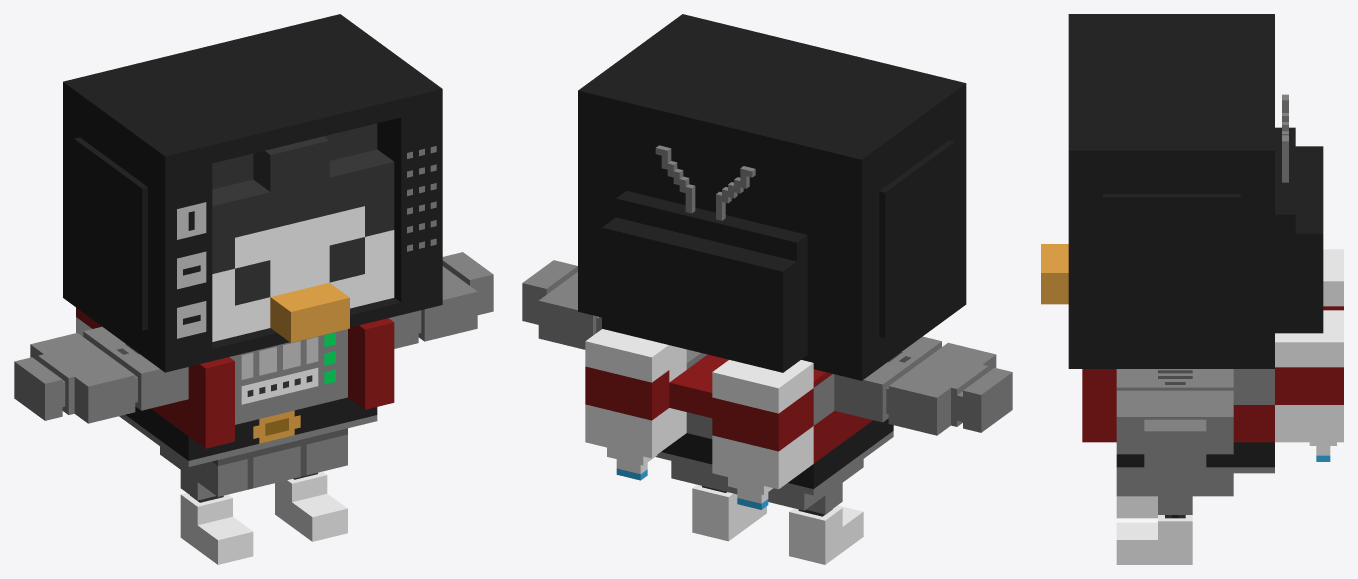
File: pinguiMagnet.fbx
3 renders of one model, left to right at view 1: azimuth 30°, elevation 25°; view 2: azimuth 150°, elevation 25°; view 3: azimuth 270°, elevation 25°, orthographic. The views are drawn at different scales.
Visible parts, largest first — view 1: pinguiMagnet:pinguiMagnet; view 2: pinguiMagnet:pinguiMagnet; view 3: pinguiMagnet:pinguiMagnet.
Boxes of the visible parts, <box> form: pinguiMagnet:pinguiMagnet: <box>14,14,493,564</box>; pinguiMagnet:pinguiMagnet: <box>522,14,1012,564</box>; pinguiMagnet:pinguiMagnet: <box>1041,14,1343,564</box>.
Size of the model in its own units: 76 by 72 by 44.
Materials: 1 (1 with a texture image).
